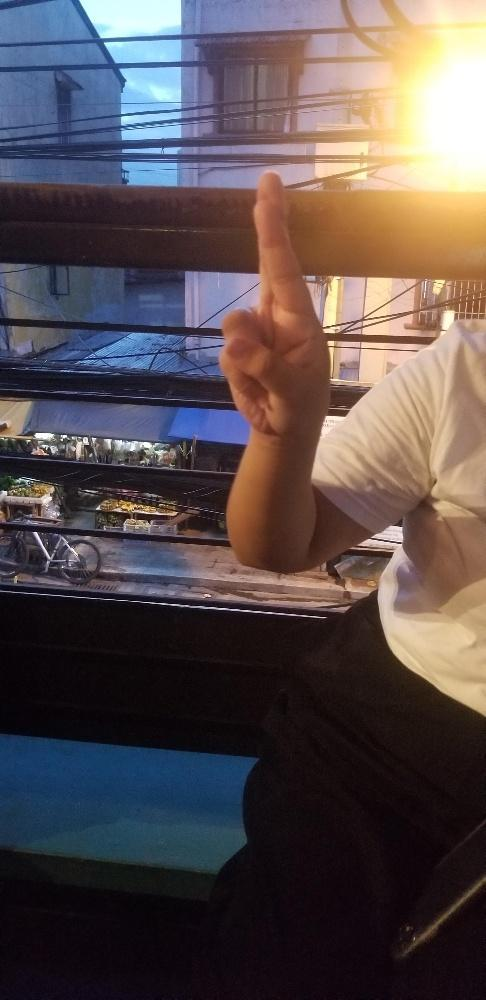r: (217, 171, 332, 439)
